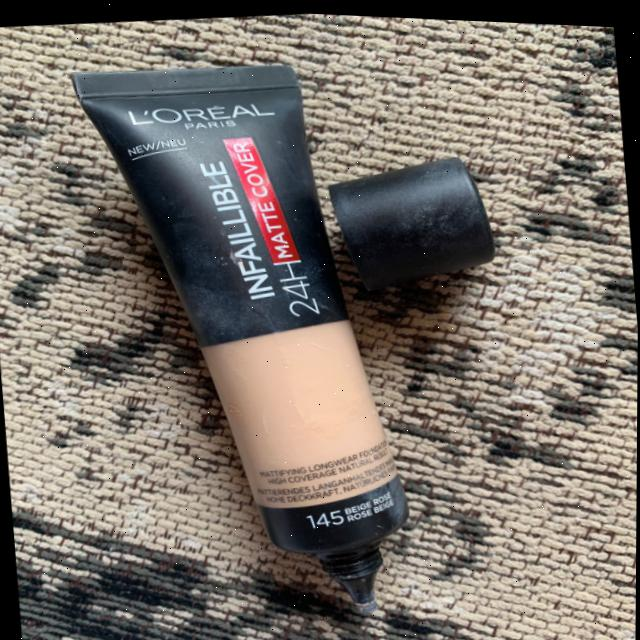foundation: (63, 20, 436, 585)
